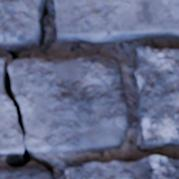brick: (54, 0, 178, 42), (135, 47, 178, 150), (66, 155, 178, 178), (0, 0, 43, 48), (0, 169, 53, 178)
broken_brick: (9, 54, 128, 154), (0, 88, 22, 156), (0, 57, 4, 81)
crack: (0, 2, 53, 176)
